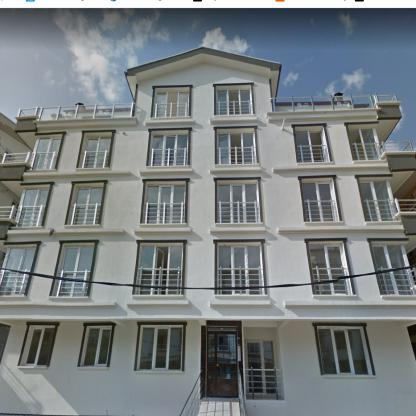door: (206, 327, 238, 397), (245, 340, 267, 394)
window: (318, 326, 373, 376), (217, 242, 264, 287), (137, 325, 182, 372), (136, 244, 183, 286), (217, 180, 260, 223), (143, 183, 185, 223), (309, 242, 346, 283), (302, 180, 338, 221), (216, 129, 256, 164), (69, 184, 104, 224), (20, 326, 54, 367), (56, 244, 94, 280), (360, 181, 395, 220), (149, 131, 188, 166), (80, 326, 112, 367), (16, 187, 48, 226), (79, 133, 111, 167), (371, 243, 408, 272), (295, 131, 327, 162), (349, 128, 380, 159), (32, 137, 62, 169), (153, 92, 189, 117), (378, 270, 414, 295), (2, 245, 35, 272), (216, 89, 251, 114), (1, 270, 29, 296), (264, 340, 277, 394), (51, 280, 88, 296), (314, 278, 348, 295), (134, 287, 181, 295), (216, 289, 265, 294)
